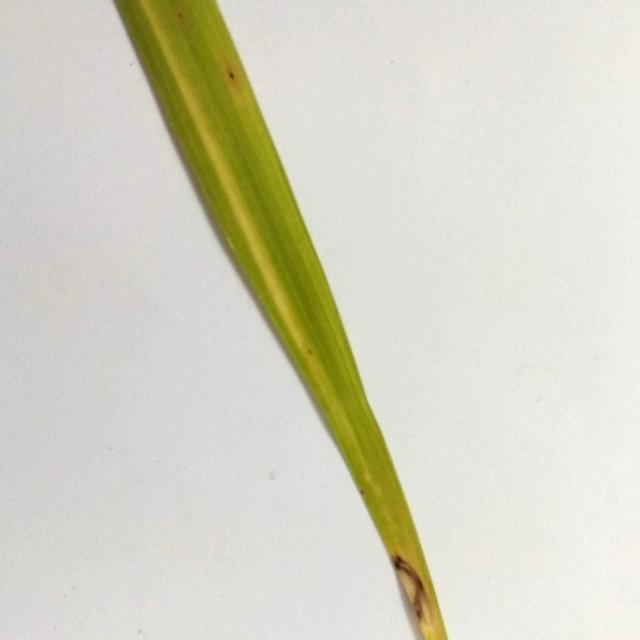Leaf blast: (98, 0, 536, 640)
